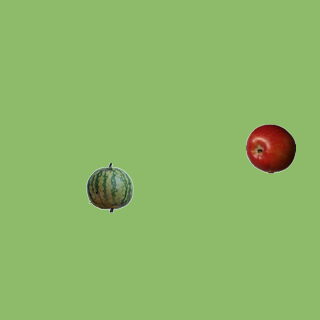Apple Braeburn: (245, 123, 295, 173)
Watermelon: (84, 162, 134, 212)
